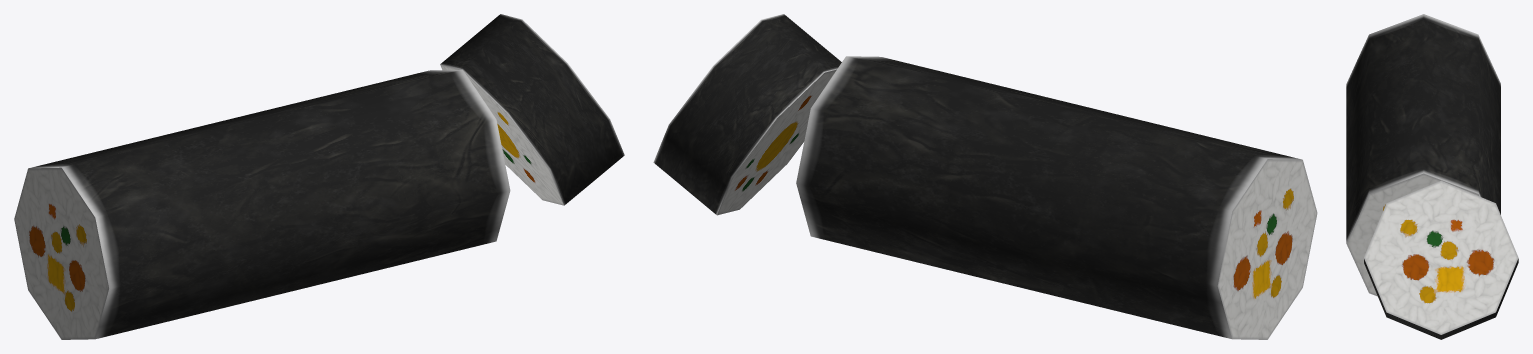
Rendered from gimbob.fbx.
3 renders of one model, left to right at view 1: azimuth 30°, elevation 25°; view 2: azimuth 150°, elevation 25°; view 3: azimuth 270°, elevation 25°, orthographic. The views are drawn at different scales.
Visible parts, largest first — view 1: Cylinder.005; view 2: Cylinder.005; view 3: Cylinder.005.
Part boxes in pixels (x1,y1,x2,y2): Cylinder.005: (14,14,624,339); Cylinder.005: (653,14,1317,339); Cylinder.005: (1346,14,1518,339).
Bounding box in the file's own units: 15.27 × 5.22 × 5.07.
